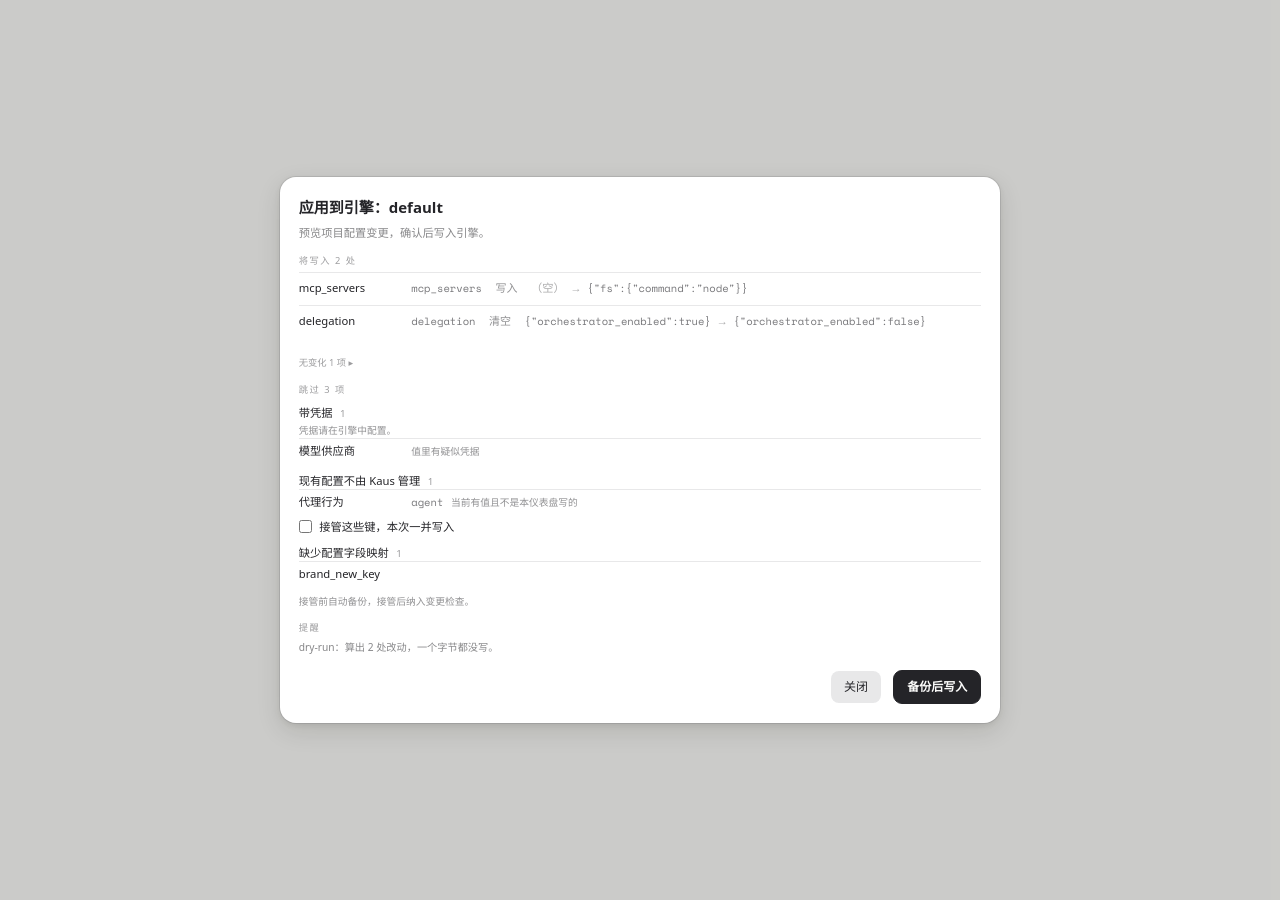
Test case: 确认写入 › 其余错误走通用失败态（变更集还在，不用重开弹窗）
The image size is (1280, 900).
Expected: the number of elements with test id "materialize-row" is 2, [299,272,981,305]; [299,305,981,337]
Click the button "备份后写入".
click(937, 687)  # box [893,670,981,704]
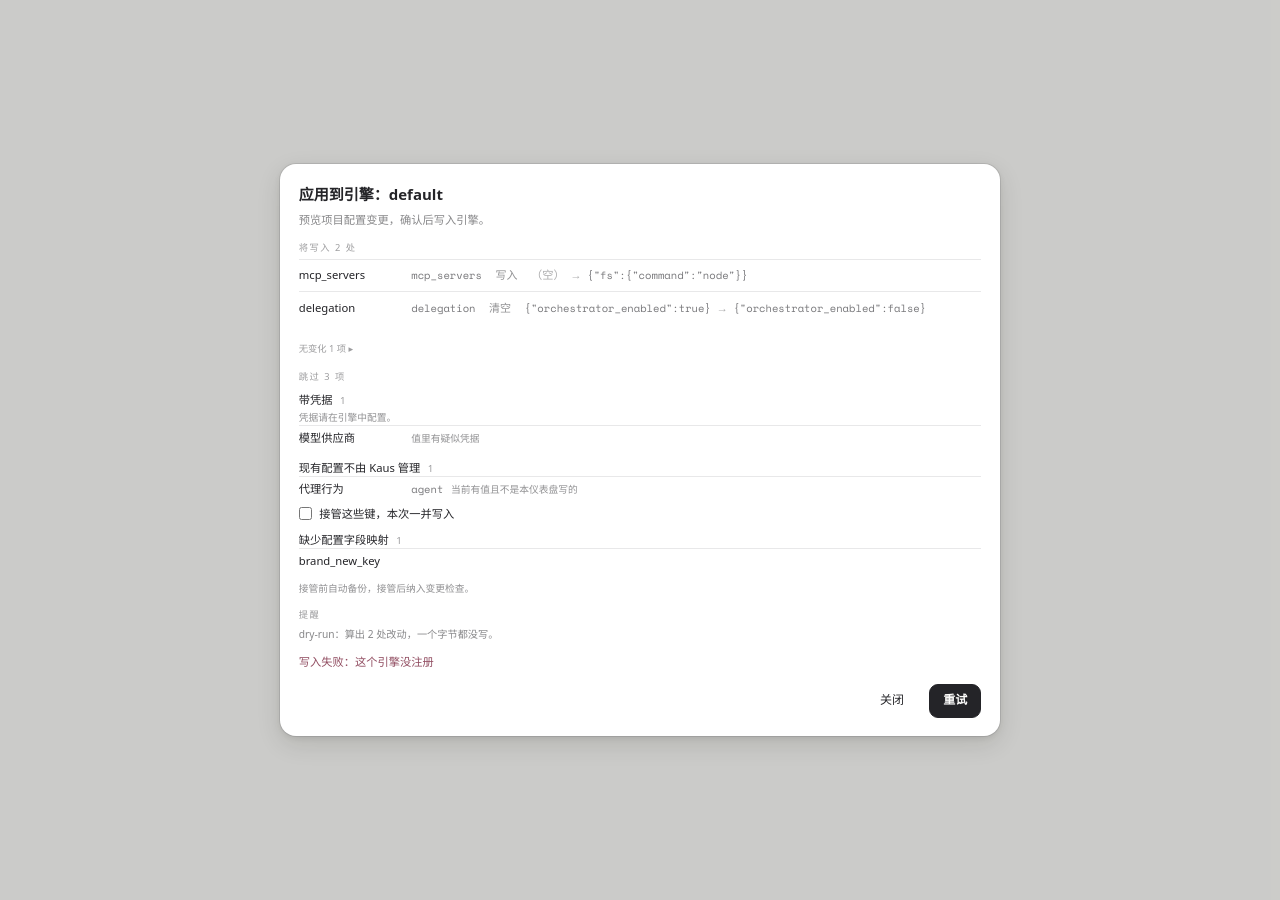
Expected: the number of elements with test id "materialize-row" is 2, [299,259,981,292]; [299,291,981,324]
Expected: the text with test id "materialize-write-failed" reads "写入失败：这个引擎没注册", [299,654,434,668]
